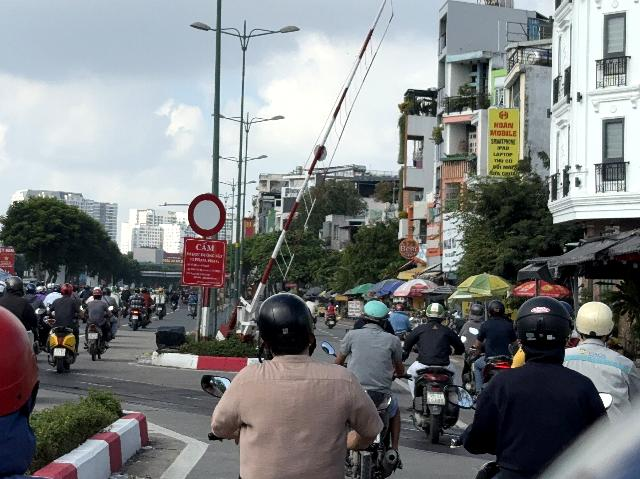duong-cam: (188, 193, 225, 237)
